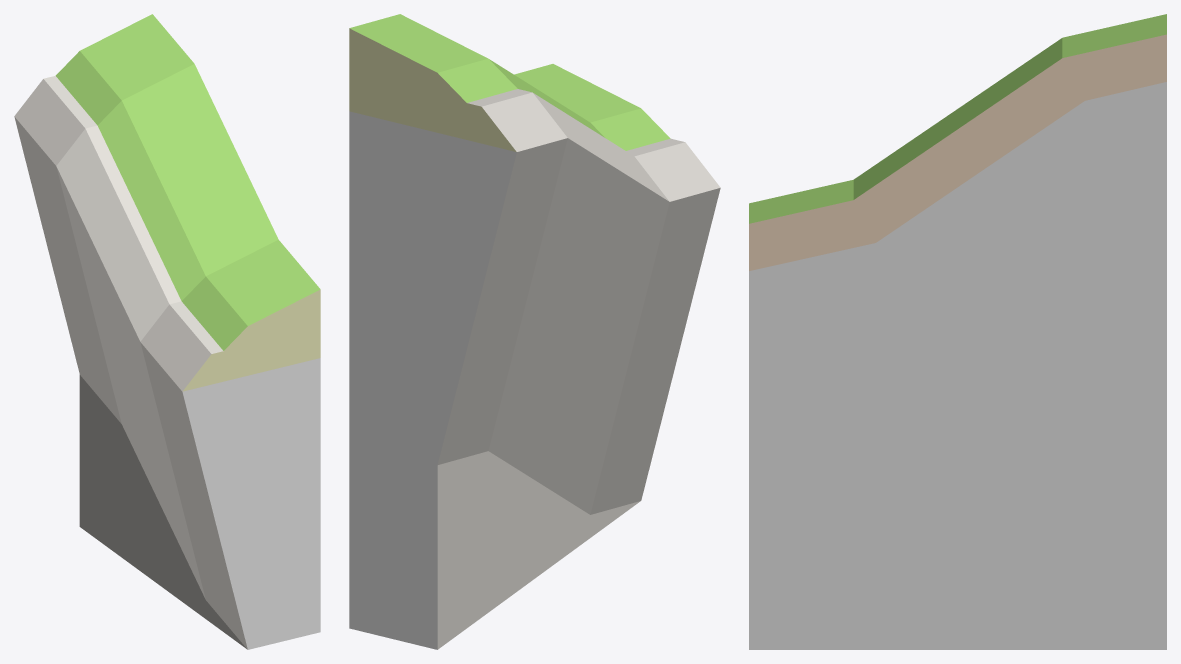
File: Basic_Incline_Top_2x2.glb
3 renders of one model, left to right at view 1: azimuth 30°, elevation 25°; view 2: azimuth 150°, elevation 25°; view 3: azimuth 270°, elevation 25°, orthographic. The views are drawn at different scales.
Parts seen in each view (by area): view 1: Basic_Incline_Top_2x2; view 2: Basic_Incline_Top_2x2; view 3: Basic_Incline_Top_2x2.
Boxes of the visible parts, x1,y1,x2,y2 form: Basic_Incline_Top_2x2: (14, 14, 320, 649); Basic_Incline_Top_2x2: (349, 14, 720, 649); Basic_Incline_Top_2x2: (749, 14, 1166, 649).
Bounding box in the file's own units: 95 × 325 × 200.
